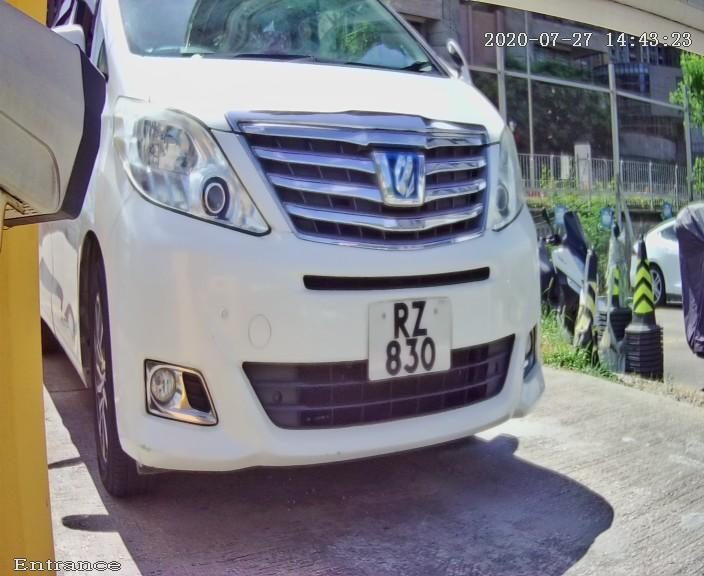privatecar: (35, 11, 598, 520)
